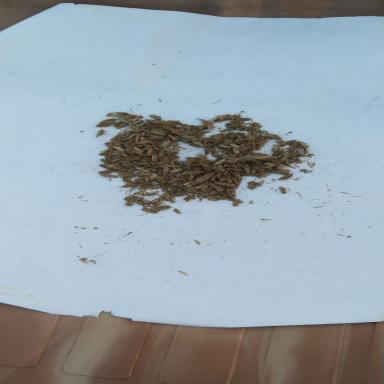pbw: (152, 204, 171, 212), (106, 111, 130, 117), (276, 173, 293, 180), (142, 207, 157, 214), (203, 119, 212, 130), (136, 166, 150, 173), (182, 194, 195, 201), (255, 171, 270, 177), (247, 180, 257, 189), (132, 132, 141, 142), (100, 173, 118, 178), (140, 191, 157, 196), (110, 145, 124, 151), (274, 166, 288, 172), (157, 149, 166, 158), (149, 153, 159, 161), (190, 140, 203, 146), (212, 159, 225, 165), (95, 129, 104, 137), (272, 143, 281, 151), (266, 134, 280, 139), (168, 168, 182, 173), (230, 199, 240, 206), (121, 176, 132, 182), (129, 119, 142, 124), (164, 197, 177, 202), (172, 145, 180, 153), (242, 165, 250, 173), (217, 144, 233, 148), (231, 147, 240, 154), (132, 146, 144, 151), (297, 141, 307, 147), (145, 148, 154, 154), (218, 128, 231, 132), (233, 117, 250, 120), (98, 164, 110, 168), (260, 130, 268, 136), (262, 162, 274, 166), (99, 159, 111, 163), (172, 207, 180, 213), (150, 197, 159, 202), (134, 200, 144, 204), (97, 170, 110, 173), (116, 160, 128, 162)
